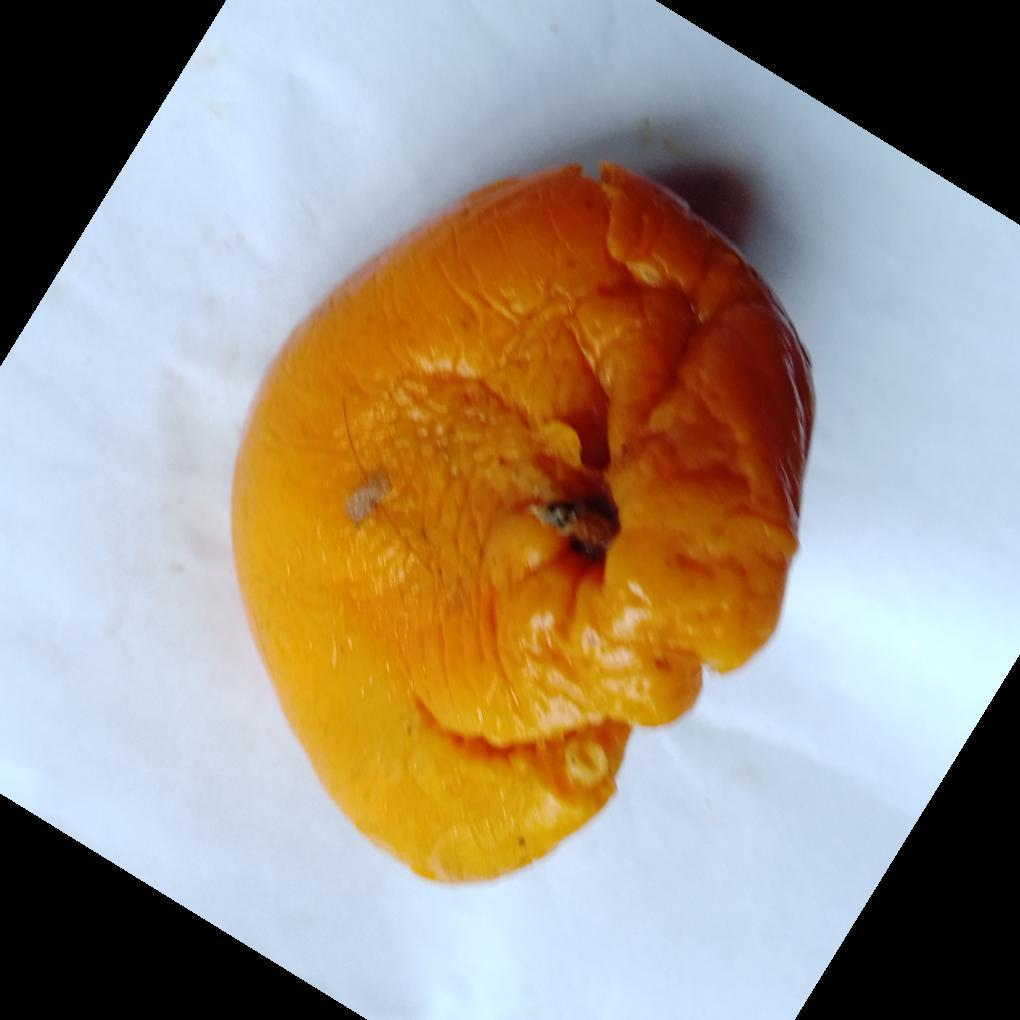FreshOrange: (225, 163, 817, 891)
